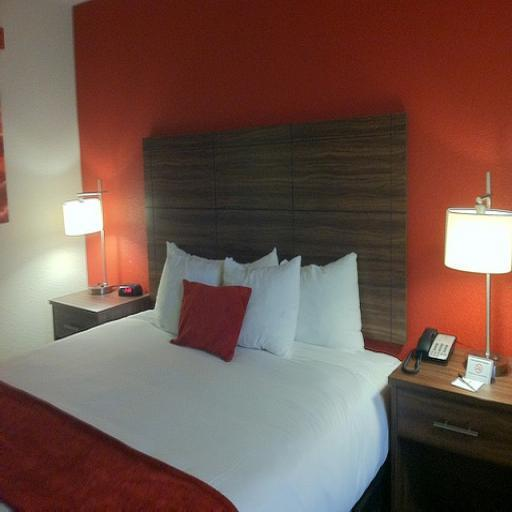bed: (7, 86, 448, 512)
